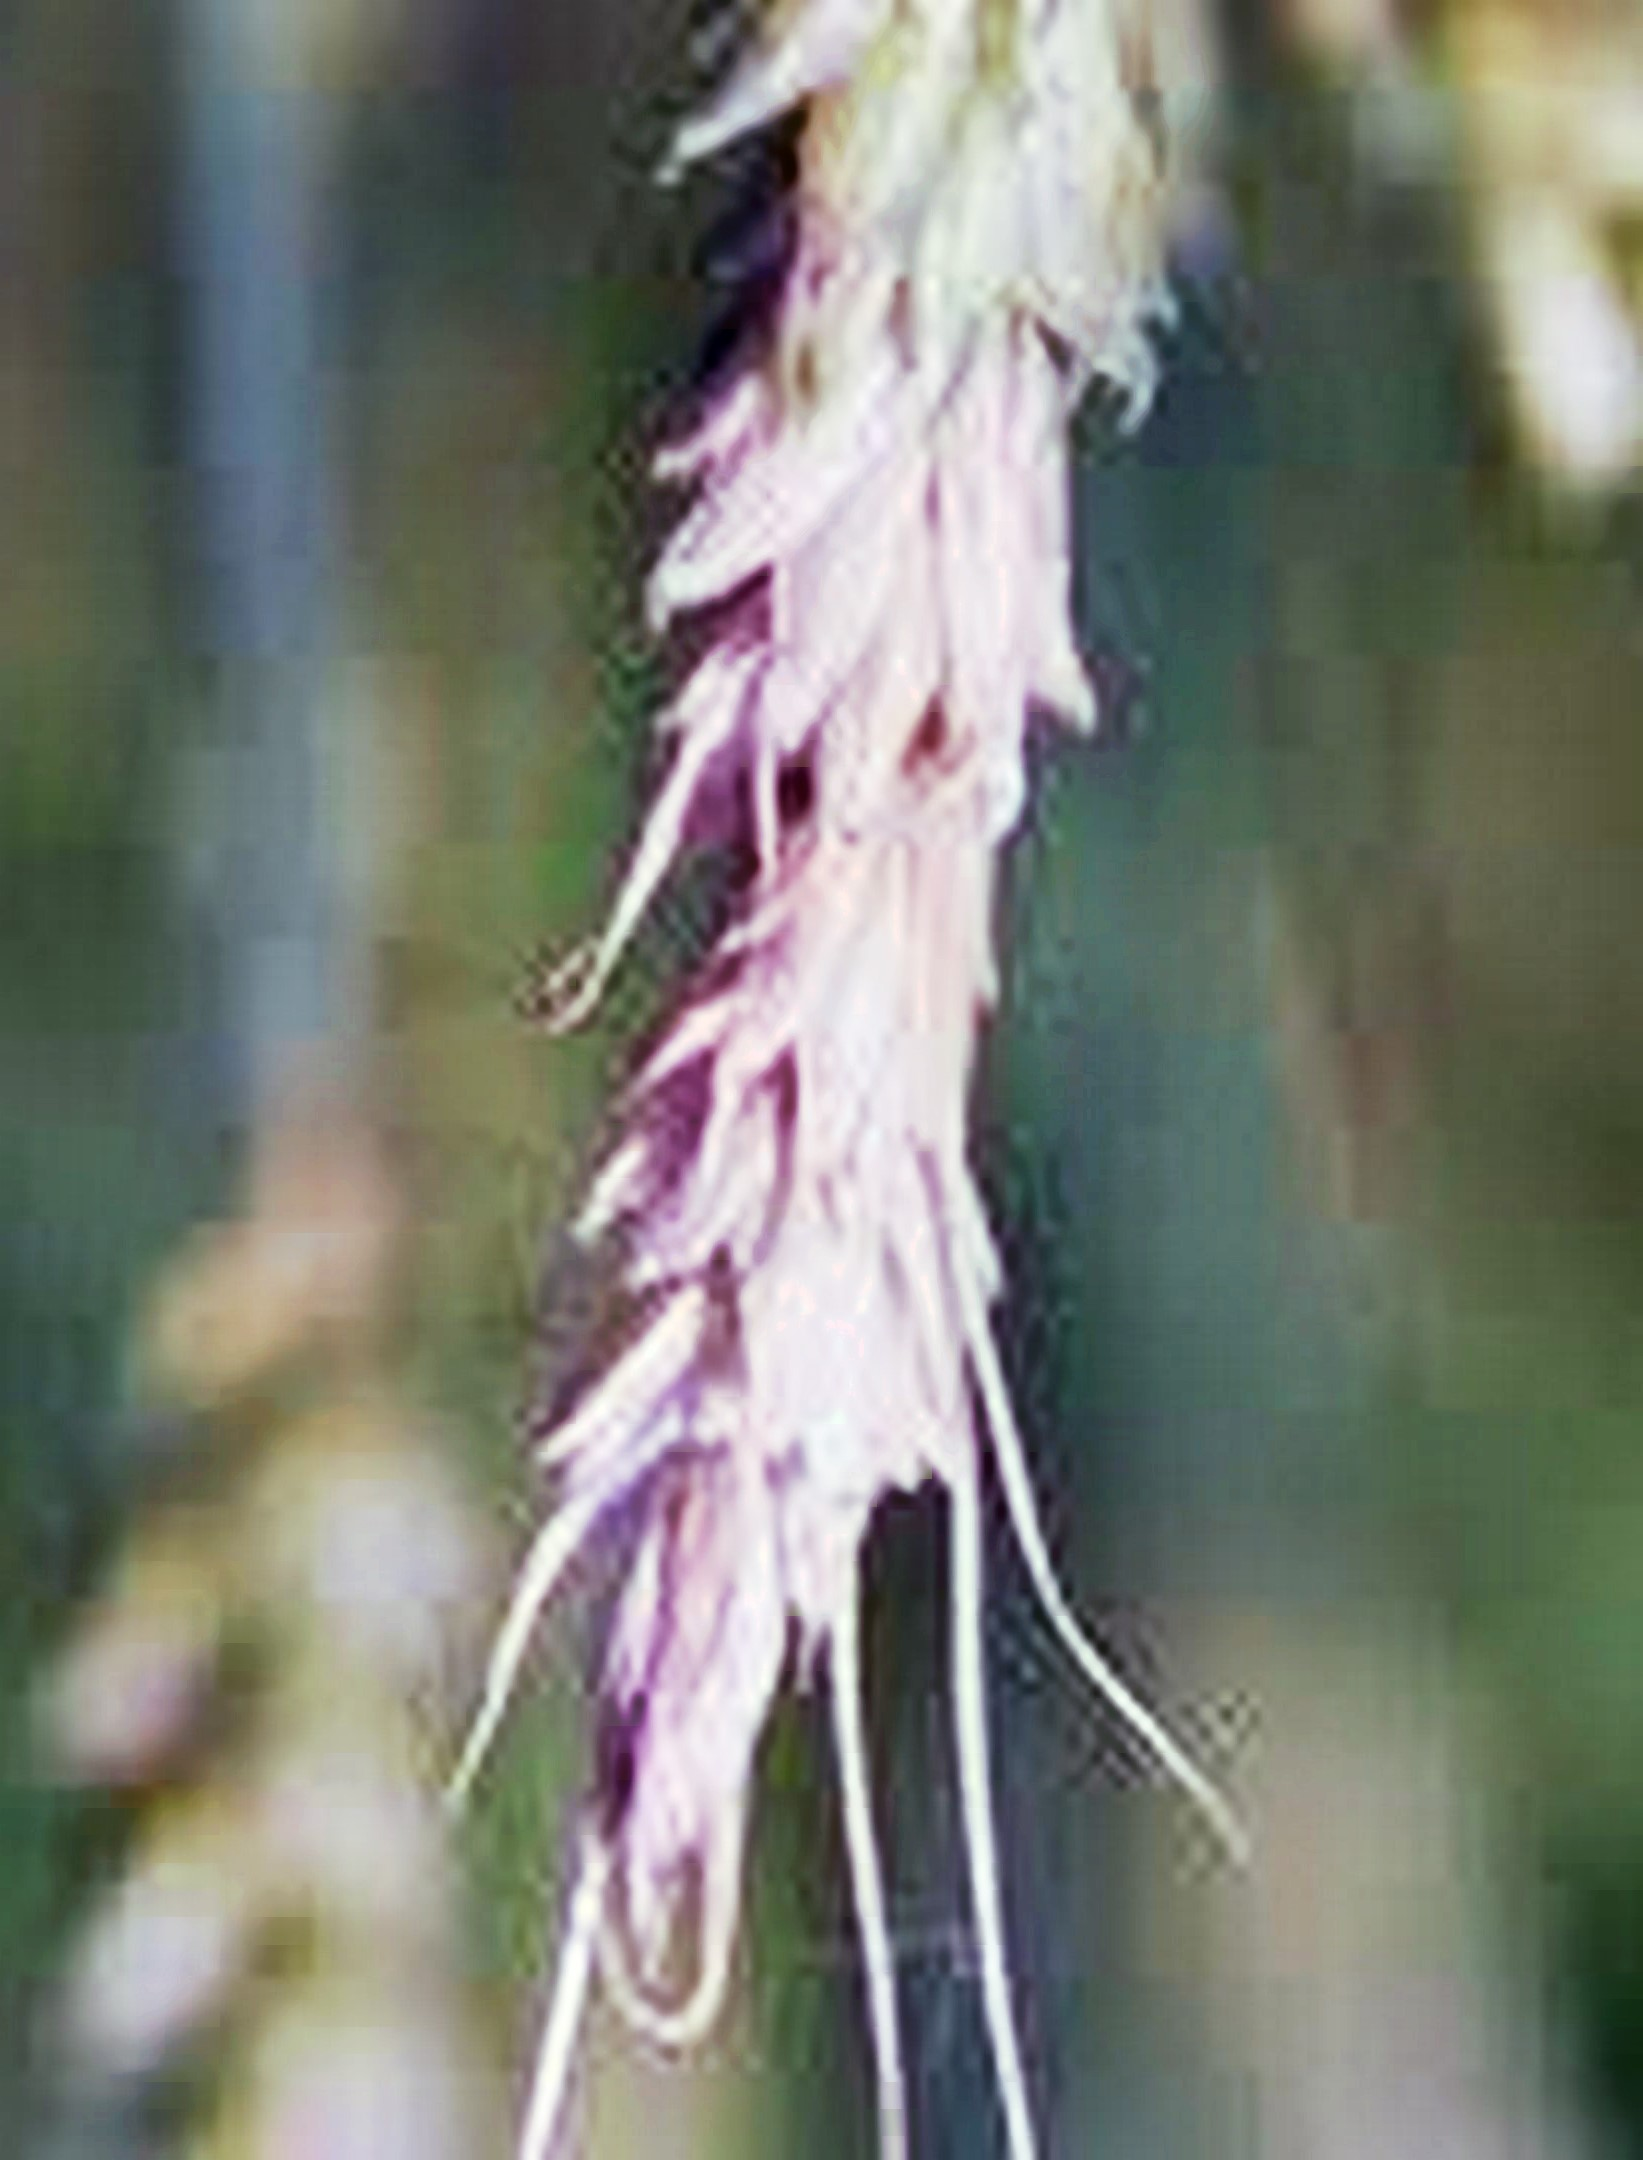Wheat scab: (537, 2, 1194, 1991)
